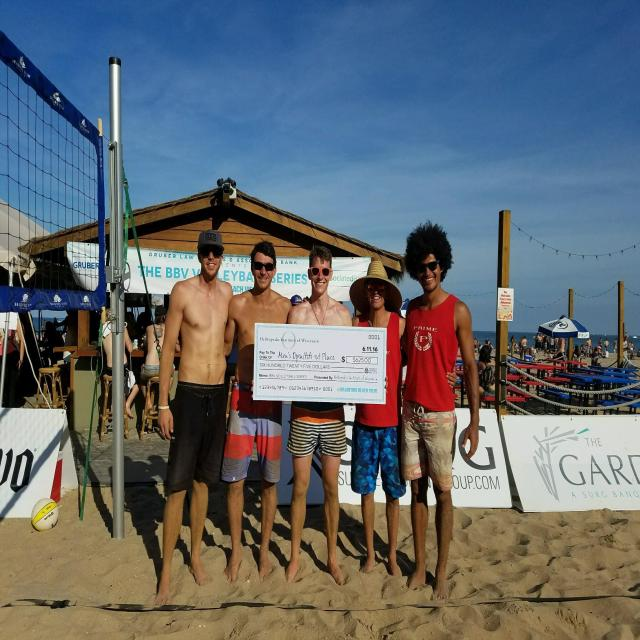body: (0, 297, 639, 584), (247, 239, 389, 588), (176, 239, 293, 588), (387, 218, 482, 606), (348, 258, 459, 578), (153, 228, 234, 606), (138, 304, 182, 416), (100, 307, 140, 420)
